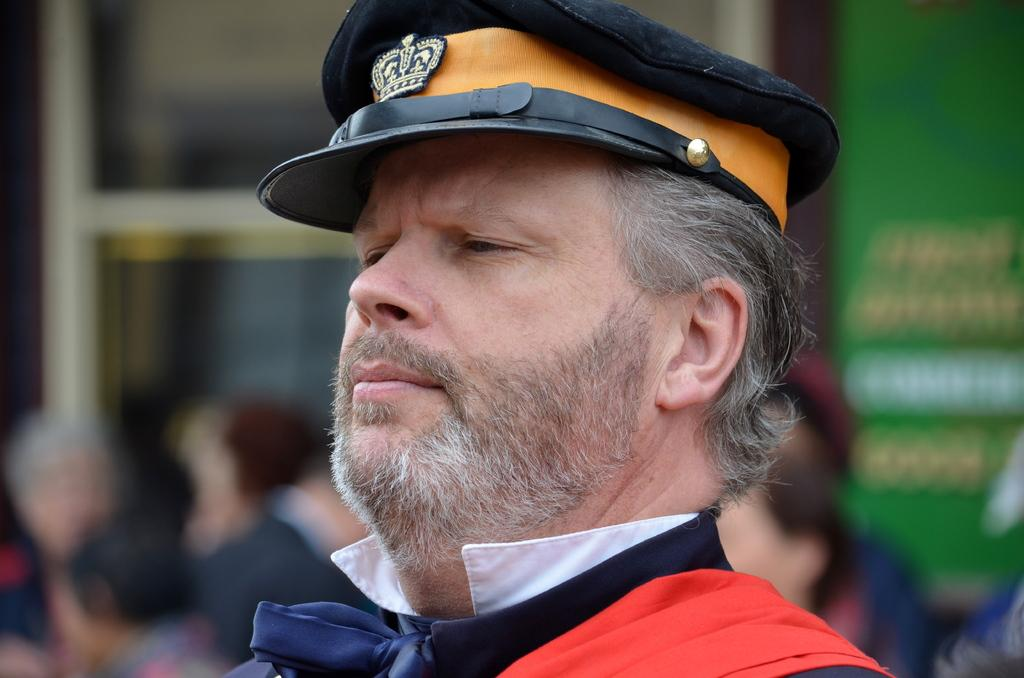Hat: (256, 0, 838, 237)
